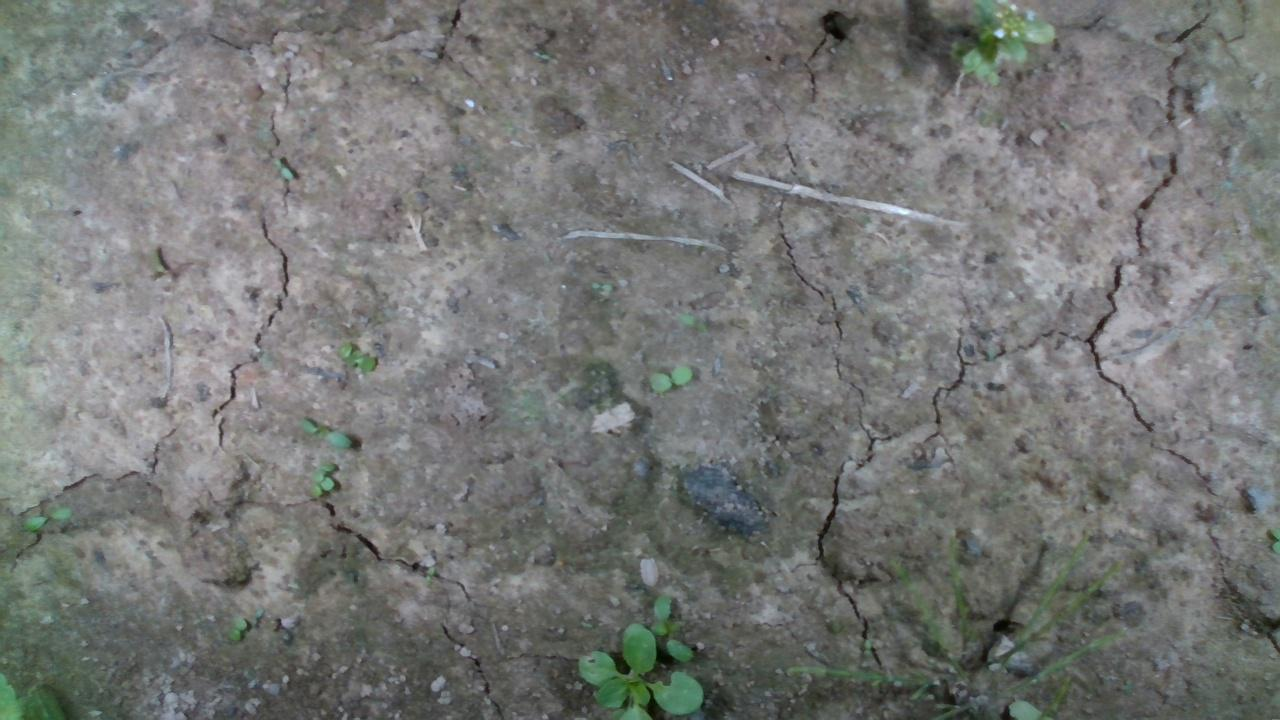weed: (297, 415, 351, 449), (20, 504, 72, 531), (646, 364, 692, 394), (336, 341, 377, 371), (270, 154, 293, 181), (227, 615, 245, 641)
